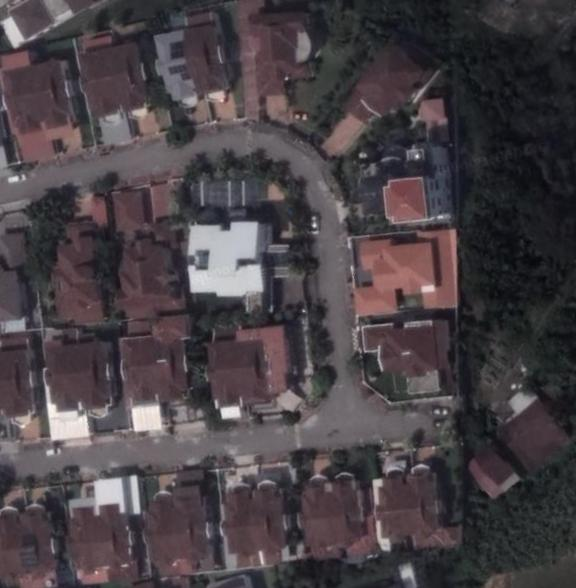building: (313, 26, 457, 166), (459, 388, 576, 510), (342, 221, 464, 326), (333, 140, 460, 236), (369, 459, 473, 559), (143, 17, 243, 114), (184, 216, 273, 306), (141, 479, 215, 584), (72, 36, 156, 126), (44, 213, 111, 324), (247, 8, 325, 103), (296, 469, 372, 565), (63, 496, 140, 587), (351, 318, 462, 381), (218, 476, 289, 573), (41, 333, 120, 419), (1, 58, 81, 141), (111, 239, 191, 322), (201, 331, 279, 414), (116, 329, 196, 409), (0, 499, 64, 586)
